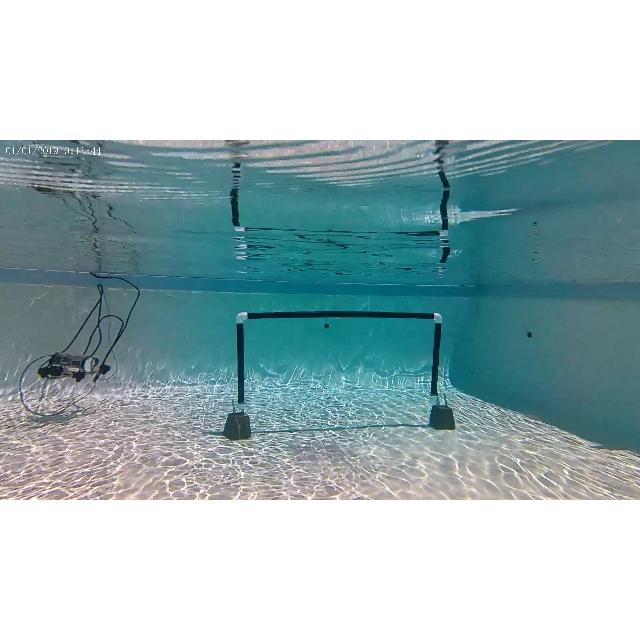prequal gate: (234, 315, 448, 429)
prequal gate leg l: (228, 316, 252, 440)
prequal gate leg r: (427, 311, 457, 429)
